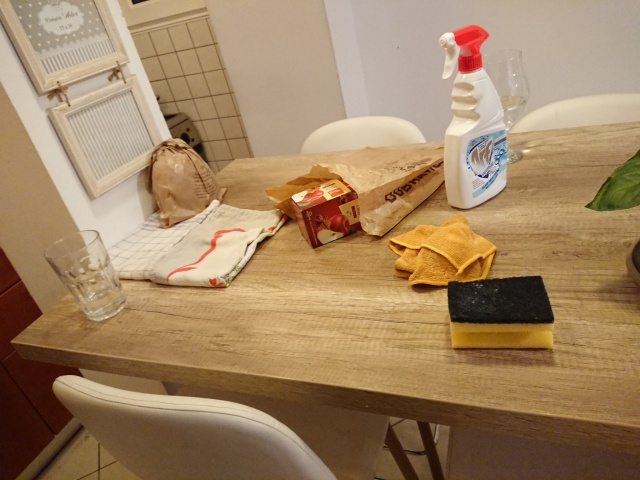Franck Apple Cinnamon Tea 60g: (288, 168, 396, 252)
